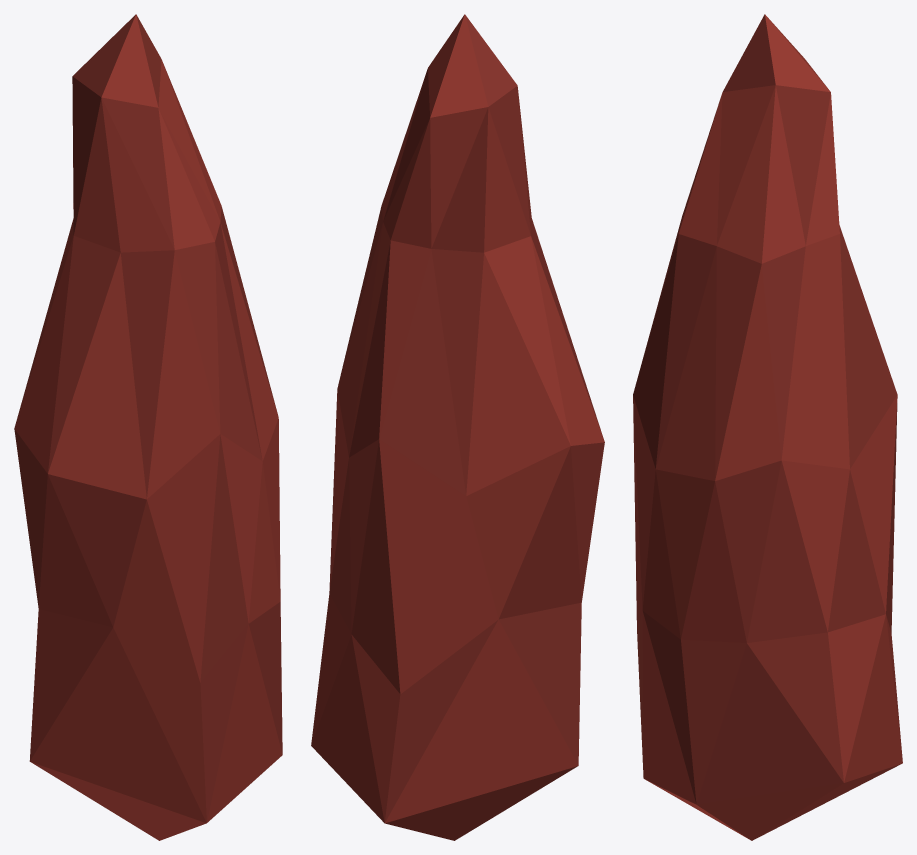
The model's file is Tree_1_Red.fbx.
3 views of the same model, side by side, from view 1: azimuth 30°, elevation 25°; view 2: azimuth 150°, elevation 25°; view 3: azimuth 270°, elevation 25° (orthographic). The views are drawn at different scales.
Parts seen in each view (by area): view 1: Tree_1_Red; view 2: Tree_1_Red; view 3: Tree_1_Red.
Boxes of the visible parts, <box> form: Tree_1_Red: <box>14,14,282,840</box>; Tree_1_Red: <box>311,14,604,840</box>; Tree_1_Red: <box>633,14,902,840</box>.
Bounding box in the file's own units: 183 × 596 × 178.
